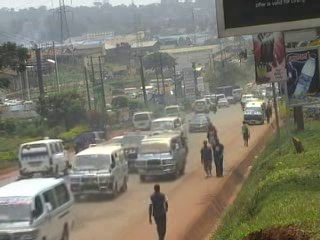Car: (72, 126, 110, 158), (187, 112, 213, 135), (215, 96, 230, 108), (223, 94, 236, 104)
Motorcycle: (206, 120, 220, 152), (178, 130, 190, 157), (211, 99, 218, 114)
